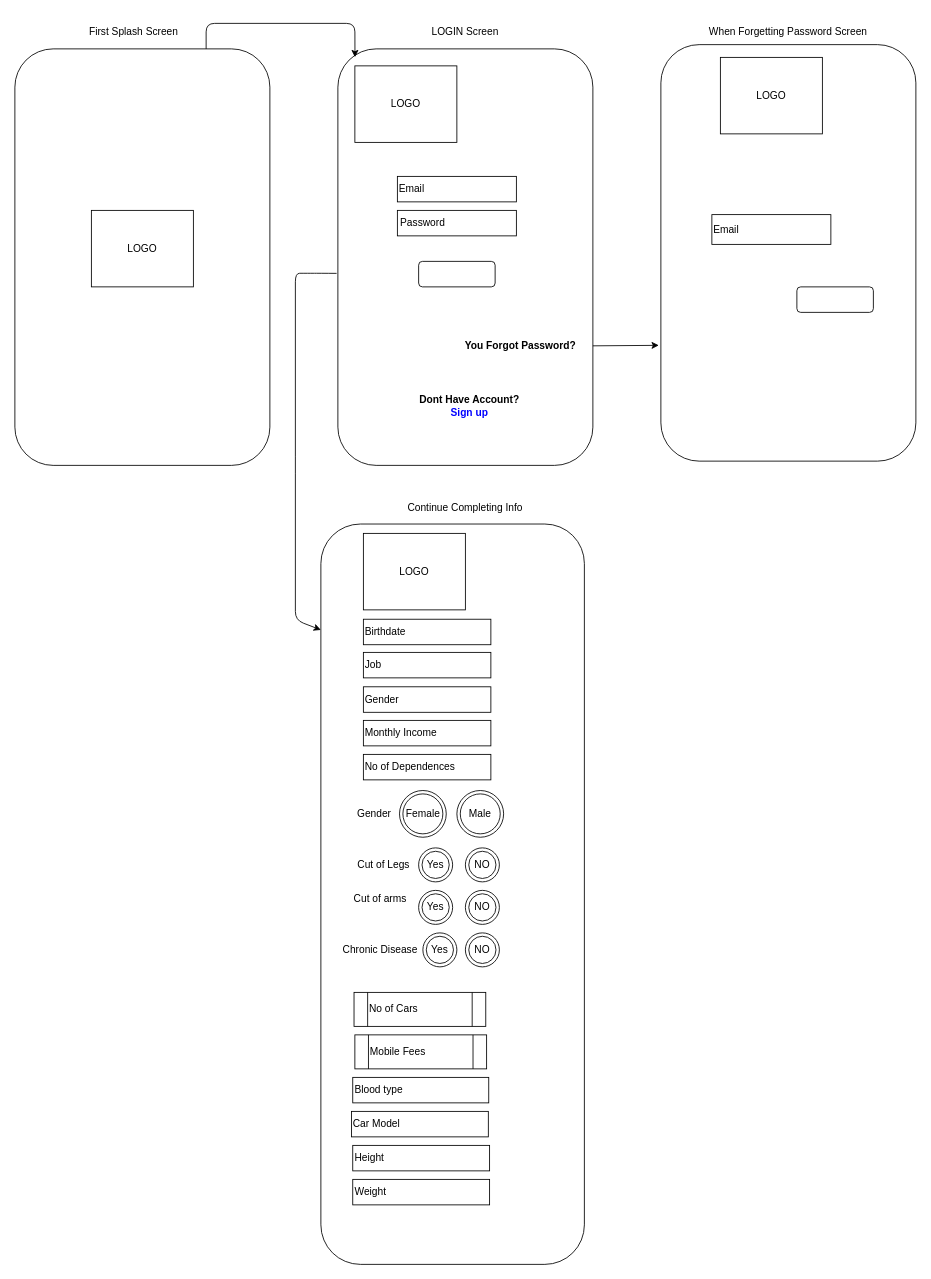
Some shapes in this 931 by 1279 pixel diagram are drawn without their labels. The centre of each missing label's shape, as x and y in pixels:
Login: [456,274]
Submit: [834,299]
